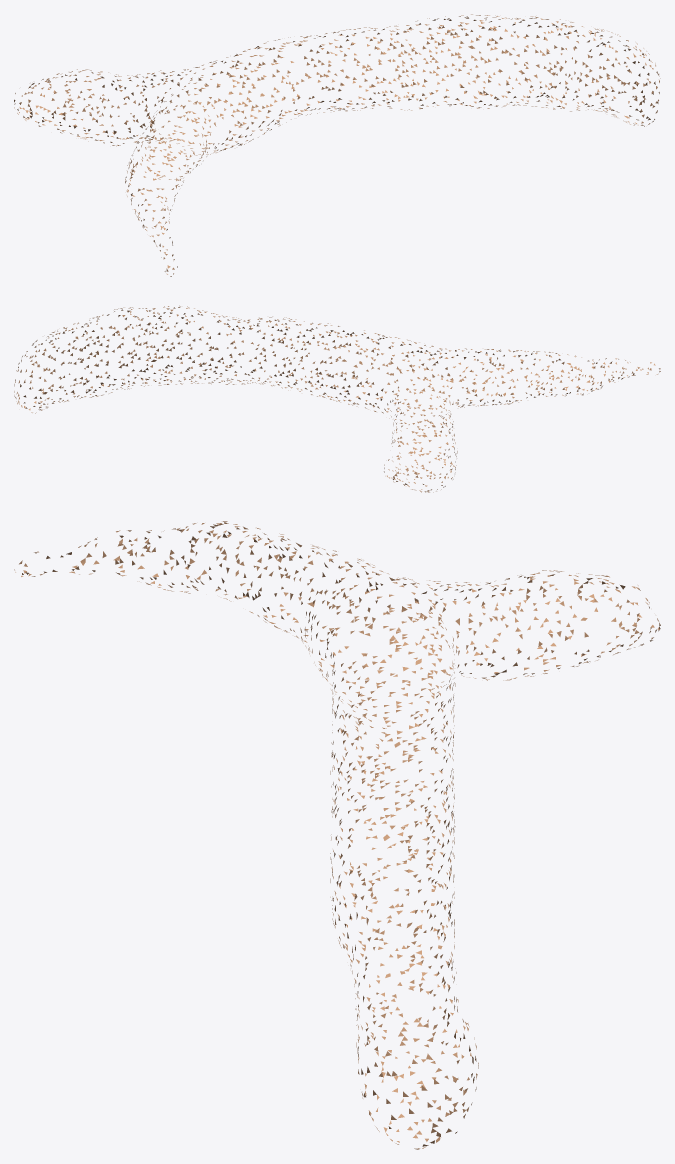
File: morph_005.glb
The picture shows the model from 3 angles, top to bottom: view 1: azimuth 30°, elevation 25°; view 2: azimuth 150°, elevation 25°; view 3: azimuth 270°, elevation 25°; orthographic projection. The views are drawn at different scales.
Bounding box in the file's own units: 124 × 33 × 75.84.
